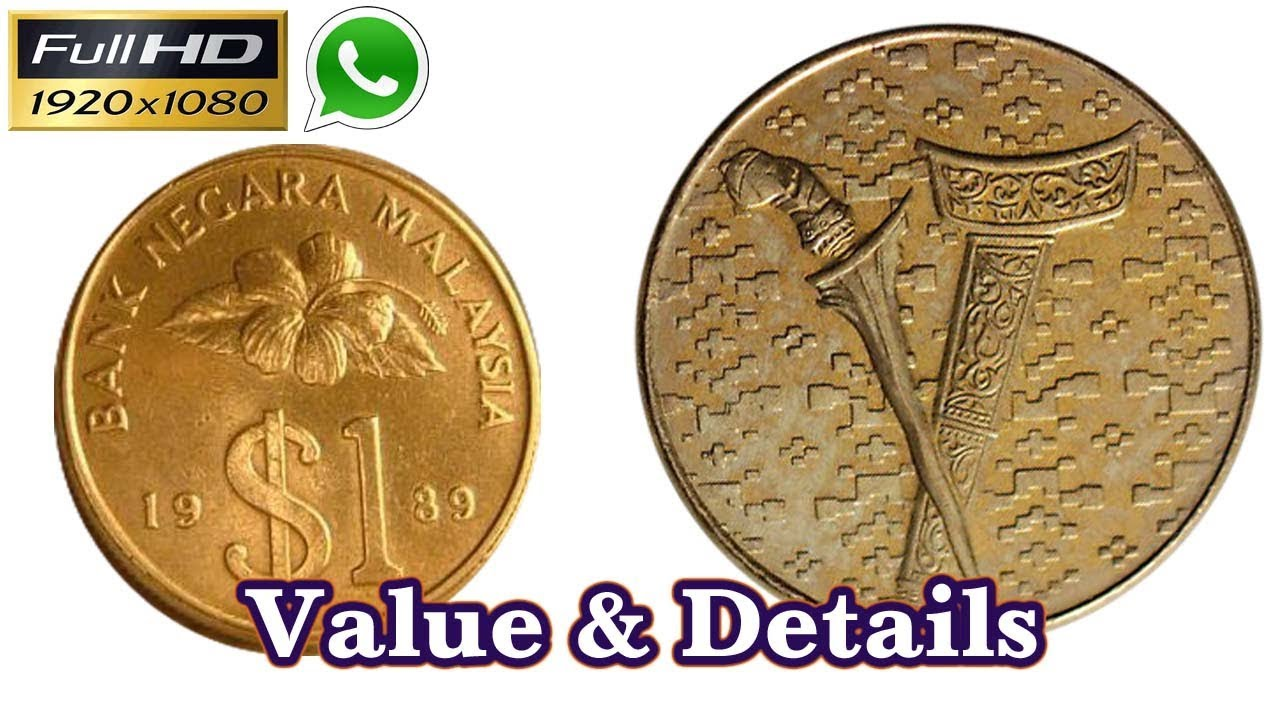1r: (631, 20, 1265, 645), (51, 140, 546, 655)
